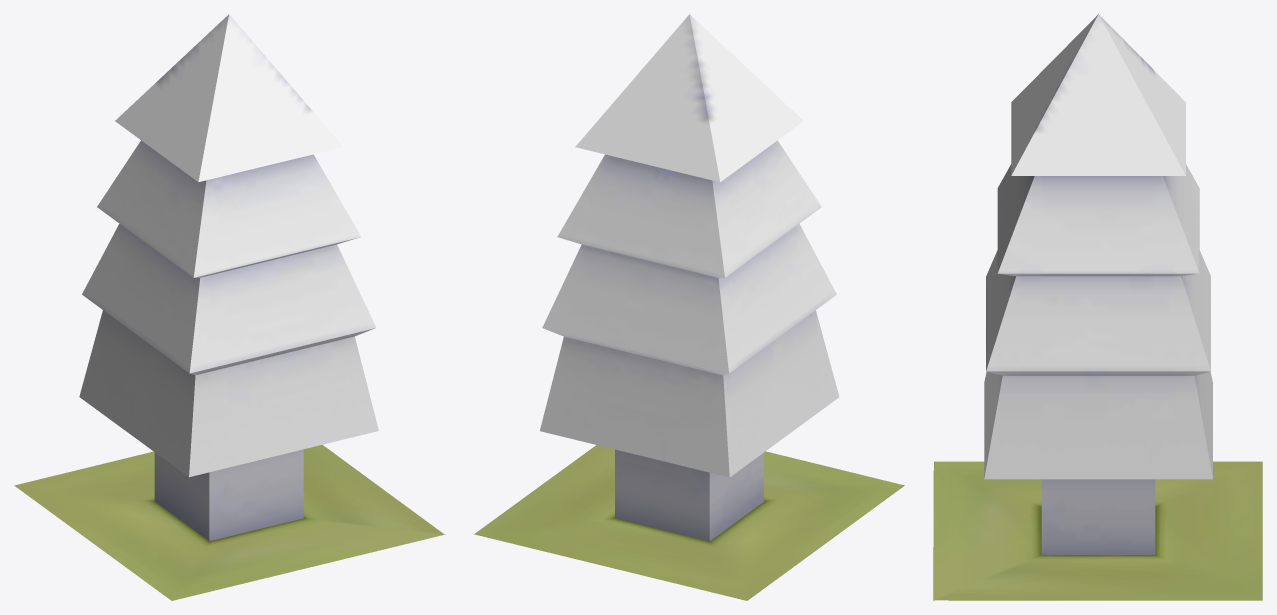
The model's file is treesml (4) #190001.fbx.
3 renders of one model, left to right at view 1: azimuth 30°, elevation 25°; view 2: azimuth 150°, elevation 25°; view 3: azimuth 270°, elevation 25°, orthographic. The views are drawn at different scales.
Visible parts, largest first — view 1: tree_sml_top, tree_sml_shadow, tree_sml_bot; view 2: tree_sml_top, tree_sml_shadow, tree_sml_bot; view 3: tree_sml_top, tree_sml_shadow, tree_sml_bot.
Part boxes in pixels (left/top/right/bottom): tree_sml_top: left=79, top=14, right=378, bottom=477; tree_sml_shadow: left=14, top=445, right=445, bottom=600; tree_sml_bot: left=154, top=449, right=303, bottom=541; tree_sml_top: left=540, top=14, right=839, bottom=477; tree_sml_shadow: left=474, top=445, right=904, bottom=600; tree_sml_bot: left=615, top=449, right=763, bottom=541; tree_sml_top: left=984, top=14, right=1212, bottom=479; tree_sml_shadow: left=933, top=461, right=1262, bottom=600; tree_sml_bot: left=1041, top=479, right=1155, bottom=554.
Bounding box in the file's own units: 2.86 × 5 × 2.86.
3 materials, 3 textured.
